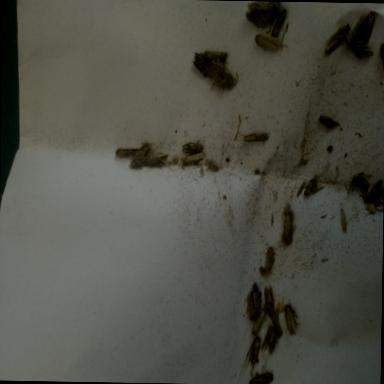pbw: (130, 141, 158, 169), (206, 64, 234, 90), (245, 336, 261, 375), (254, 34, 288, 52), (142, 153, 176, 171), (271, 6, 288, 38), (360, 12, 376, 46), (241, 292, 259, 322), (266, 308, 284, 338), (281, 204, 292, 245), (248, 366, 273, 384), (264, 247, 275, 286), (247, 2, 282, 14), (192, 52, 208, 77), (262, 286, 275, 316), (262, 322, 275, 352), (350, 41, 374, 57), (285, 305, 297, 336), (202, 51, 230, 64), (251, 310, 265, 336), (370, 180, 382, 208), (182, 152, 204, 166), (318, 116, 340, 130), (243, 134, 268, 146), (182, 140, 204, 153), (352, 174, 369, 190), (252, 282, 261, 312), (352, 16, 363, 40), (115, 149, 140, 158), (304, 186, 325, 196), (378, 44, 384, 75), (340, 210, 347, 234), (297, 180, 305, 198)
